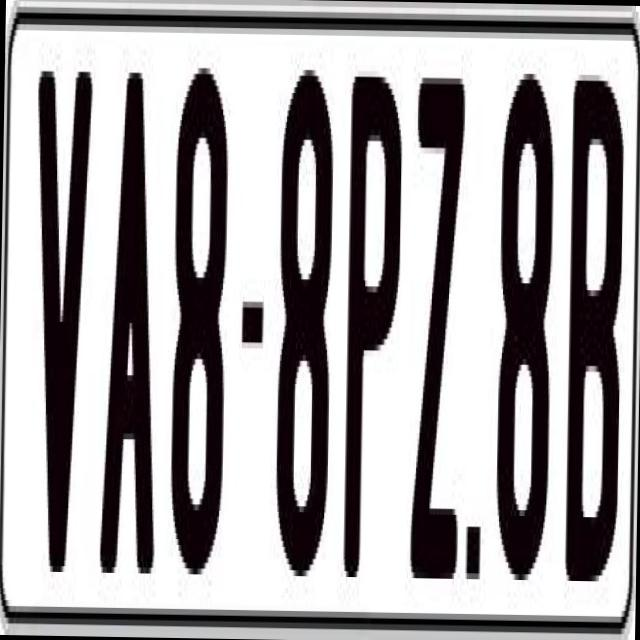8: (274, 57, 336, 582), (169, 49, 229, 580), (492, 61, 552, 592)
A: (100, 66, 170, 568)
B: (560, 68, 616, 570)
P: (341, 76, 403, 589)
V: (30, 53, 99, 566)
Z: (406, 66, 472, 578)
